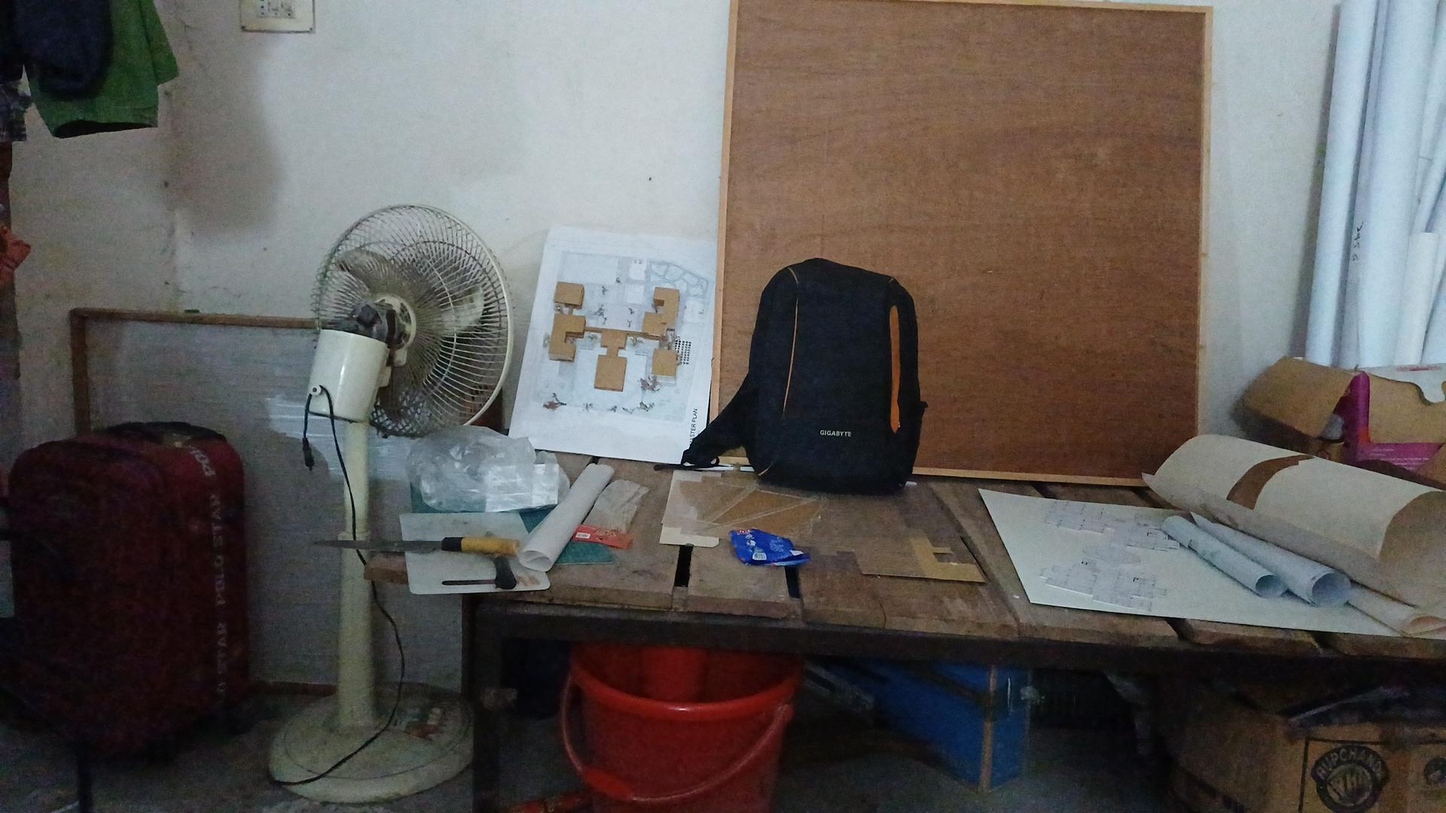Bag: (755, 233, 943, 495)
Bucket: (543, 635, 828, 813)
Fan: (228, 187, 511, 451)
Knife: (293, 522, 543, 588)
Photo: (532, 218, 710, 453)
